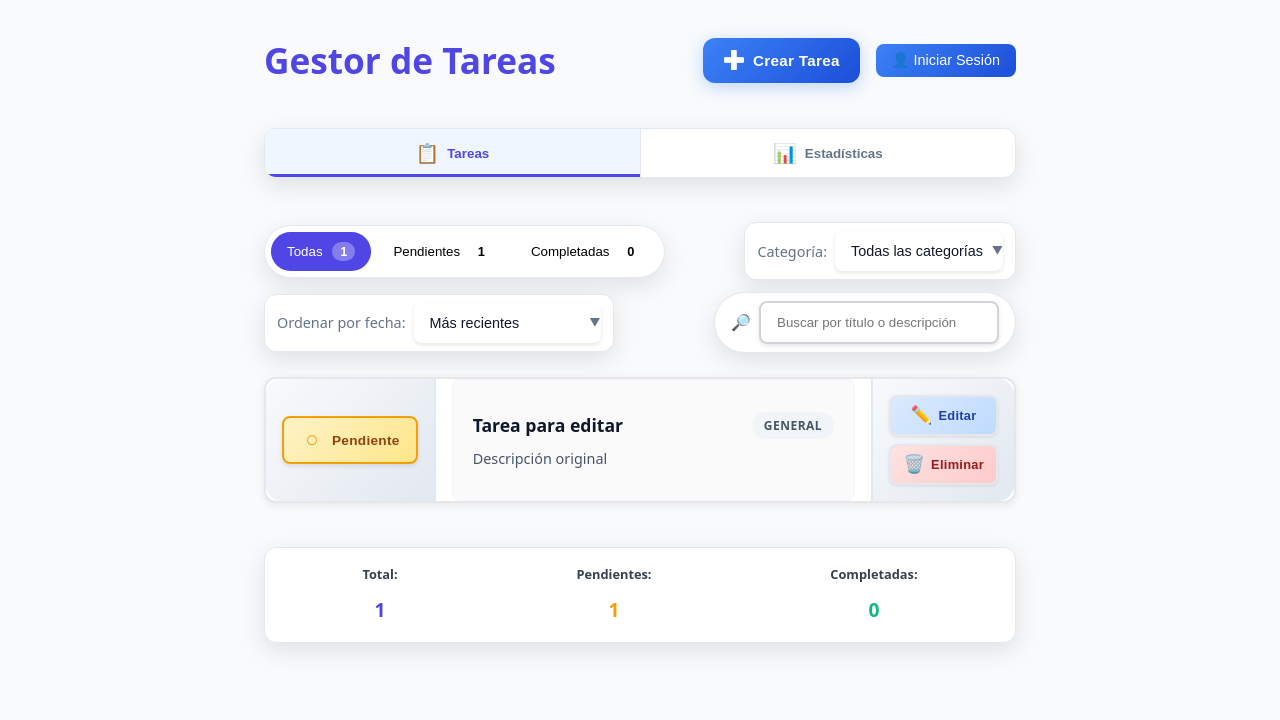
Test case: Gestor de Tareas - App Principal › 4. Editar Tarea › debe abrir el modal de edición con los datos de la tarea
// Hacer clic en editar
Click the button with aria-label "editar tarea".
click(944, 416)  # box top-left (889, 395), bottom-right (998, 436)
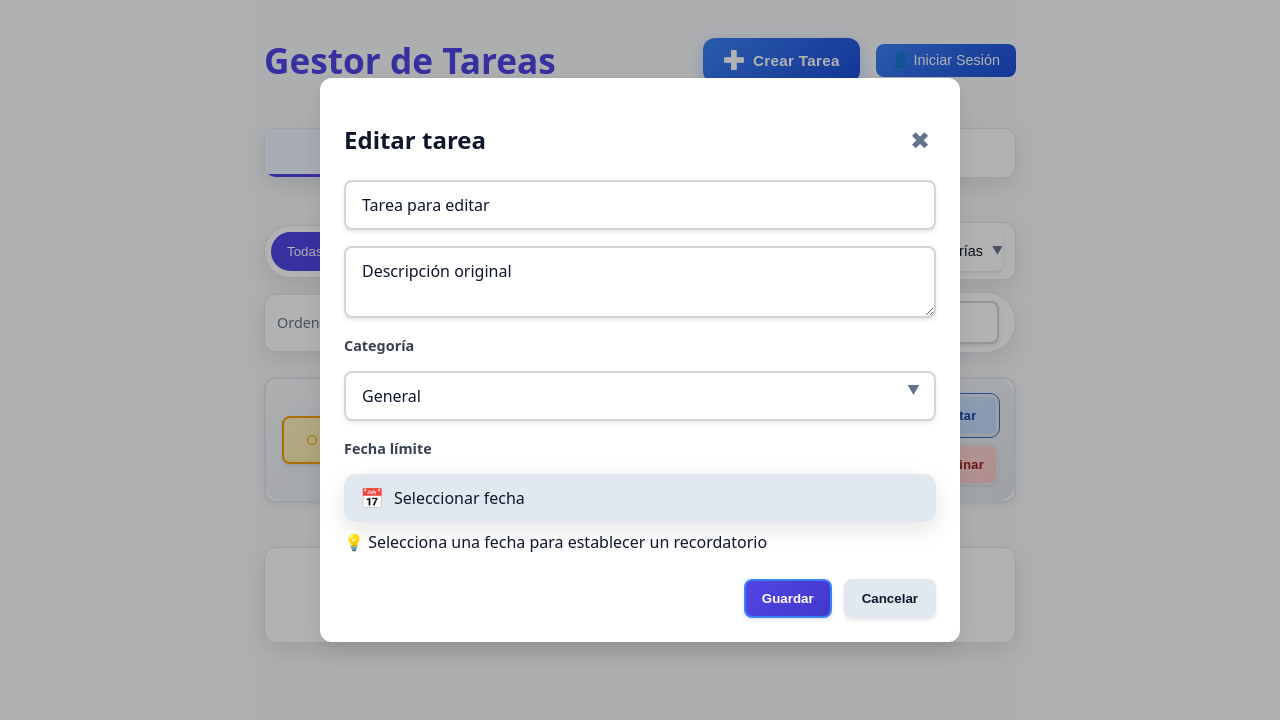
Check: the heading "Editar tarea" is shown, box top-left (344, 122), bottom-right (486, 160)
Check: the field showing "Tarea para editar" is shown, box top-left (344, 180), bottom-right (936, 230)
Check: the text box showing "Descripción original" is shown, box top-left (344, 246), bottom-right (936, 318)
